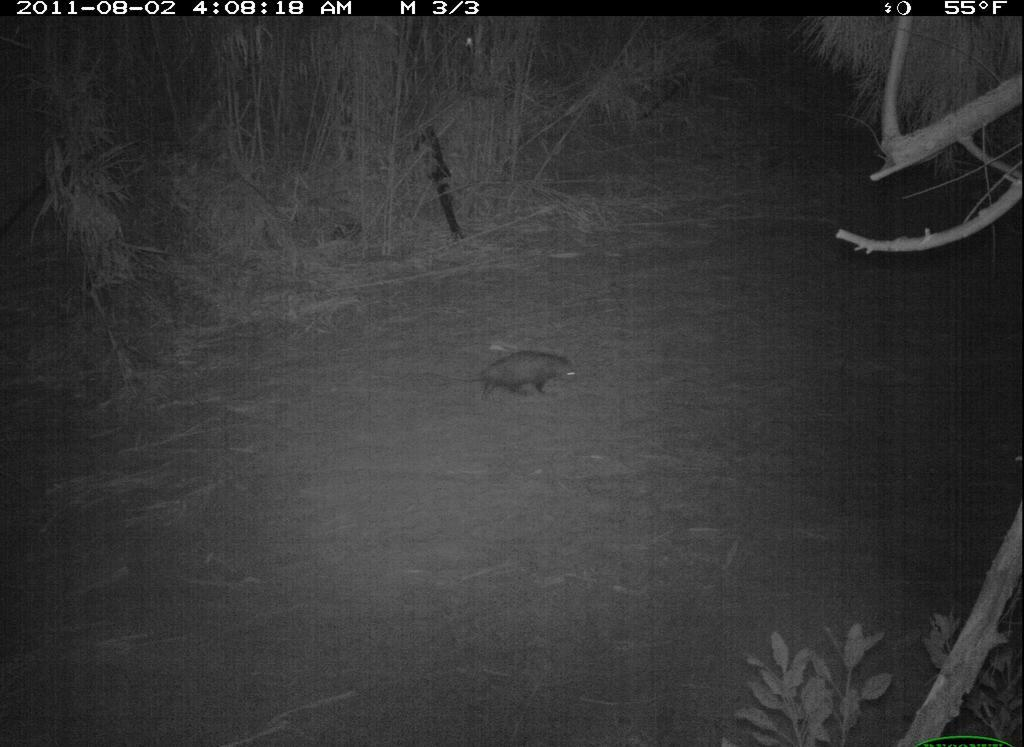opossum: (474, 342, 591, 402)
